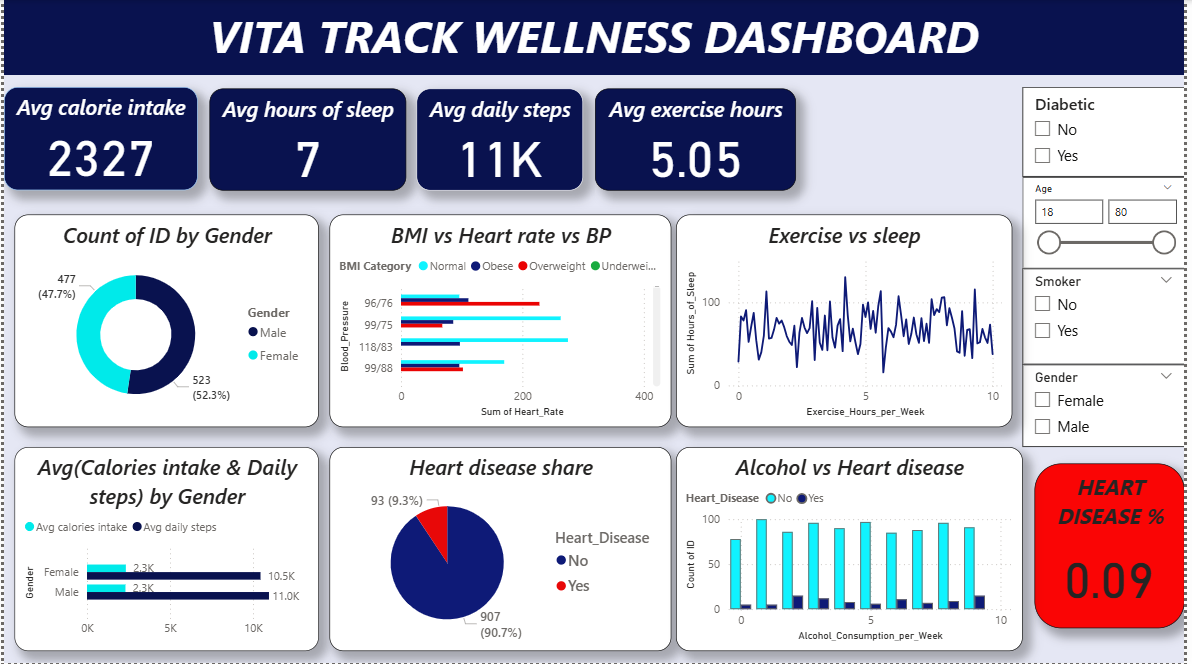

The page's visual inventory and layout, read from the dashboard file:
{"tool":"powerbi","page":{"name":"Page 1","canvas":[1280,720],"ordinal":0},"visuals":[{"type":"textbox","box":[0,0,1280.1,81.3],"z":0},{"type":"card","title":"Avg calorie intake","fields":{"Values":["health_activity_data.Avg calories intake"]},"box":[0,94.3,209.8,112.2],"z":1000},{"type":"card","title":"Avg hours of sleep","fields":{"Values":["health_activity_data.Avg hours of sleep"]},"box":[222.8,96,213.1,110.6],"z":2000},{"type":"card","title":"Avg daily steps","fields":{"Values":["health_activity_data.Avg daily steps"]},"box":[447.3,96,180.5,110.6],"z":3000},{"type":"donutChart","fields":{"Category":["health_activity_data.Gender"],"Y":["CountNonNull(health_activity_data.ID)"]},"box":[11.4,232.6,330.2,231],"z":4000},{"type":"clusteredBarChart","title":"Avg(Calories intake & Daily steps) by Gender","fields":{"Category":["health_activity_data.Gender"],"Y":["health_activity_data.Avg calories intake","health_activity_data.Avg daily steps"]},"box":[11.4,484.7,330.2,221.2],"z":5000},{"type":"slicer","fields":{"Values":["health_activity_data.Diabetic"]},"box":[1104.4,94.3,175.7,97.6],"z":6000},{"type":"slicer","fields":{"Values":["health_activity_data.Smoker"]},"box":[1104.4,291.2,175.7,104.1],"z":7000},{"type":"slicer","fields":{"Values":["health_activity_data.Gender"]},"box":[1104.4,395.3,175.7,89.5],"z":8000},{"type":"slicer","fields":{"Values":["health_activity_data.Age"]},"box":[1104.4,191.9,175.7,99.2],"z":9000},{"type":"clusteredBarChart","title":"BMI vs Heart rate vs BP","fields":{"Series":["health_activity_data.BMI Category"],"Category":["health_activity_data.Blood_Pressure"],"Y":["Sum(health_activity_data.Heart_Rate)"]},"box":[353,232.6,370.9,231],"z":10000},{"type":"card","title":"HEART DISEASE %","fields":{"Values":["health_activity_data.Heart Disease %"]},"box":[1117.4,502.6,162.7,178.9],"z":11000},{"type":"pieChart","title":"Heart disease share","fields":{"Y":["CountNonNull(health_activity_data.ID)"],"Category":["health_activity_data.Heart_Disease"]},"box":[353,484.7,370.9,221.2],"z":12000},{"type":"clusteredColumnChart","title":"Alcohol vs Heart disease","fields":{"Category":["health_activity_data.Alcohol_Consumption_per_Week"],"Series":["health_activity_data.Heart_Disease"],"Y":["CountNonNull(health_activity_data.ID)"]},"box":[728.7,484.7,375.7,221.2],"z":13000},{"type":"lineChart","title":"Exercise vs sleep","fields":{"Category":["health_activity_data.Exercise_Hours_per_Week"],"Y":["Sum(health_activity_data.Hours_of_Sleep)"]},"box":[728.7,232.6,364.3,231],"z":14000},{"type":"card","title":"Avg exercise hours","fields":{"Values":["health_activity_data.Avg Exercise Hours"]},"box":[640.9,96,218,110.6],"z":14001}]}

Visuals, with their boxes in screenshot pixels (x1, y1, x2, y2), scaled from the page's 1280x720 canvas onto the 1192x664 screenshot:
textbox: (0, 0, 1191, 75)
"Avg calorie intake" card: (0, 87, 195, 190)
"Avg hours of sleep" card: (207, 89, 406, 191)
"Avg daily steps" card: (417, 89, 585, 191)
donutChart - health_activity_data.Gender x CountNonNull(health_activity_data.ID): (11, 215, 318, 428)
"Avg(Calories intake & Daily steps) by Gender" clusteredBarChart: (11, 447, 318, 651)
slicer - health_activity_data.Diabetic: (1028, 87, 1191, 177)
slicer - health_activity_data.Smoker: (1028, 269, 1191, 365)
slicer - health_activity_data.Gender: (1028, 365, 1191, 447)
slicer - health_activity_data.Age: (1028, 177, 1191, 268)
"BMI vs Heart rate vs BP" clusteredBarChart: (329, 215, 674, 428)
"HEART DISEASE %" card: (1041, 464, 1191, 628)
"Heart disease share" pieChart: (329, 447, 674, 651)
"Alcohol vs Heart disease" clusteredColumnChart: (679, 447, 1028, 651)
"Exercise vs sleep" lineChart: (679, 215, 1018, 428)
"Avg exercise hours" card: (597, 89, 800, 191)
